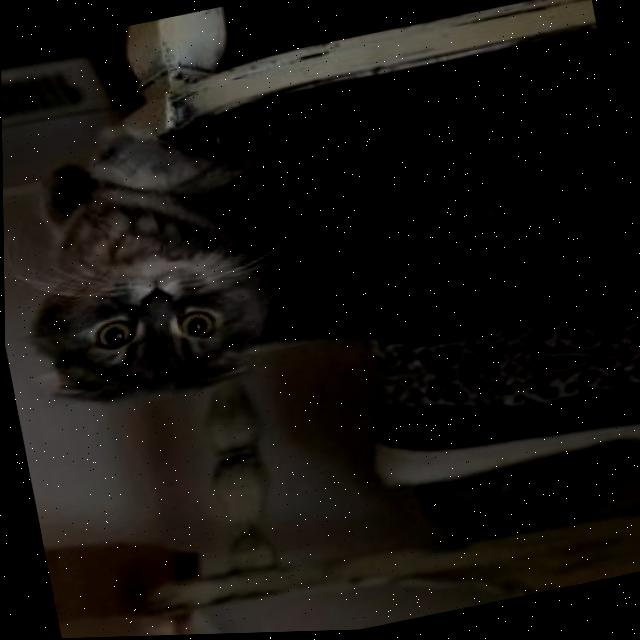Scottish Fold: (1, 39, 640, 427)
